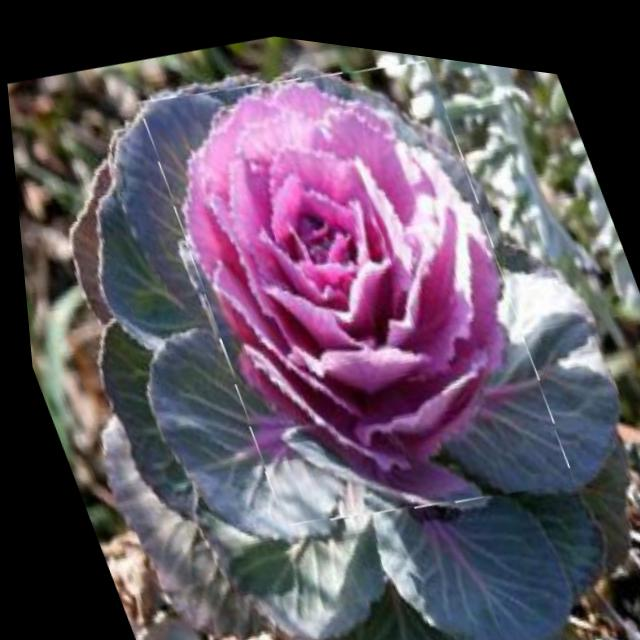Flower: (122, 13, 582, 554)
